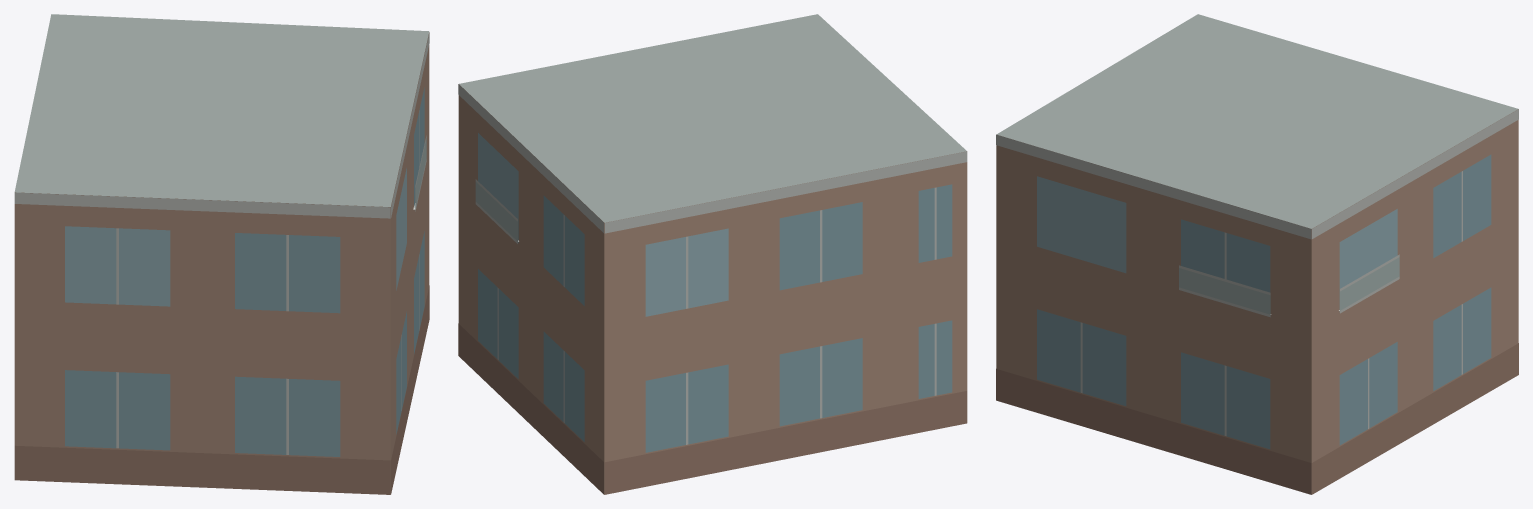
The model's file is survey-upis-32919890.glb.
3 views of the same model, side by side, from view 1: azimuth 30°, elevation 25°; view 2: azimuth 150°, elevation 25°; view 3: azimuth 270°, elevation 25° (orthographic). The views are drawn at different scales.
Visible parts, largest first — view 1: survey-upis-32919890.tmp; view 2: survey-upis-32919890.tmp; view 3: survey-upis-32919890.tmp.
Part boxes in pixels (x1,y1,x2,y2): survey-upis-32919890.tmp: (14, 14, 429, 494); survey-upis-32919890.tmp: (458, 14, 967, 494); survey-upis-32919890.tmp: (996, 14, 1518, 494).
Bounding box in the file's own units: 10.58 × 6.1 × 10.87.
